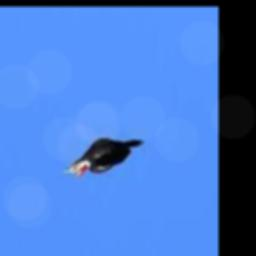Woodpecker: (64, 138, 143, 179)
